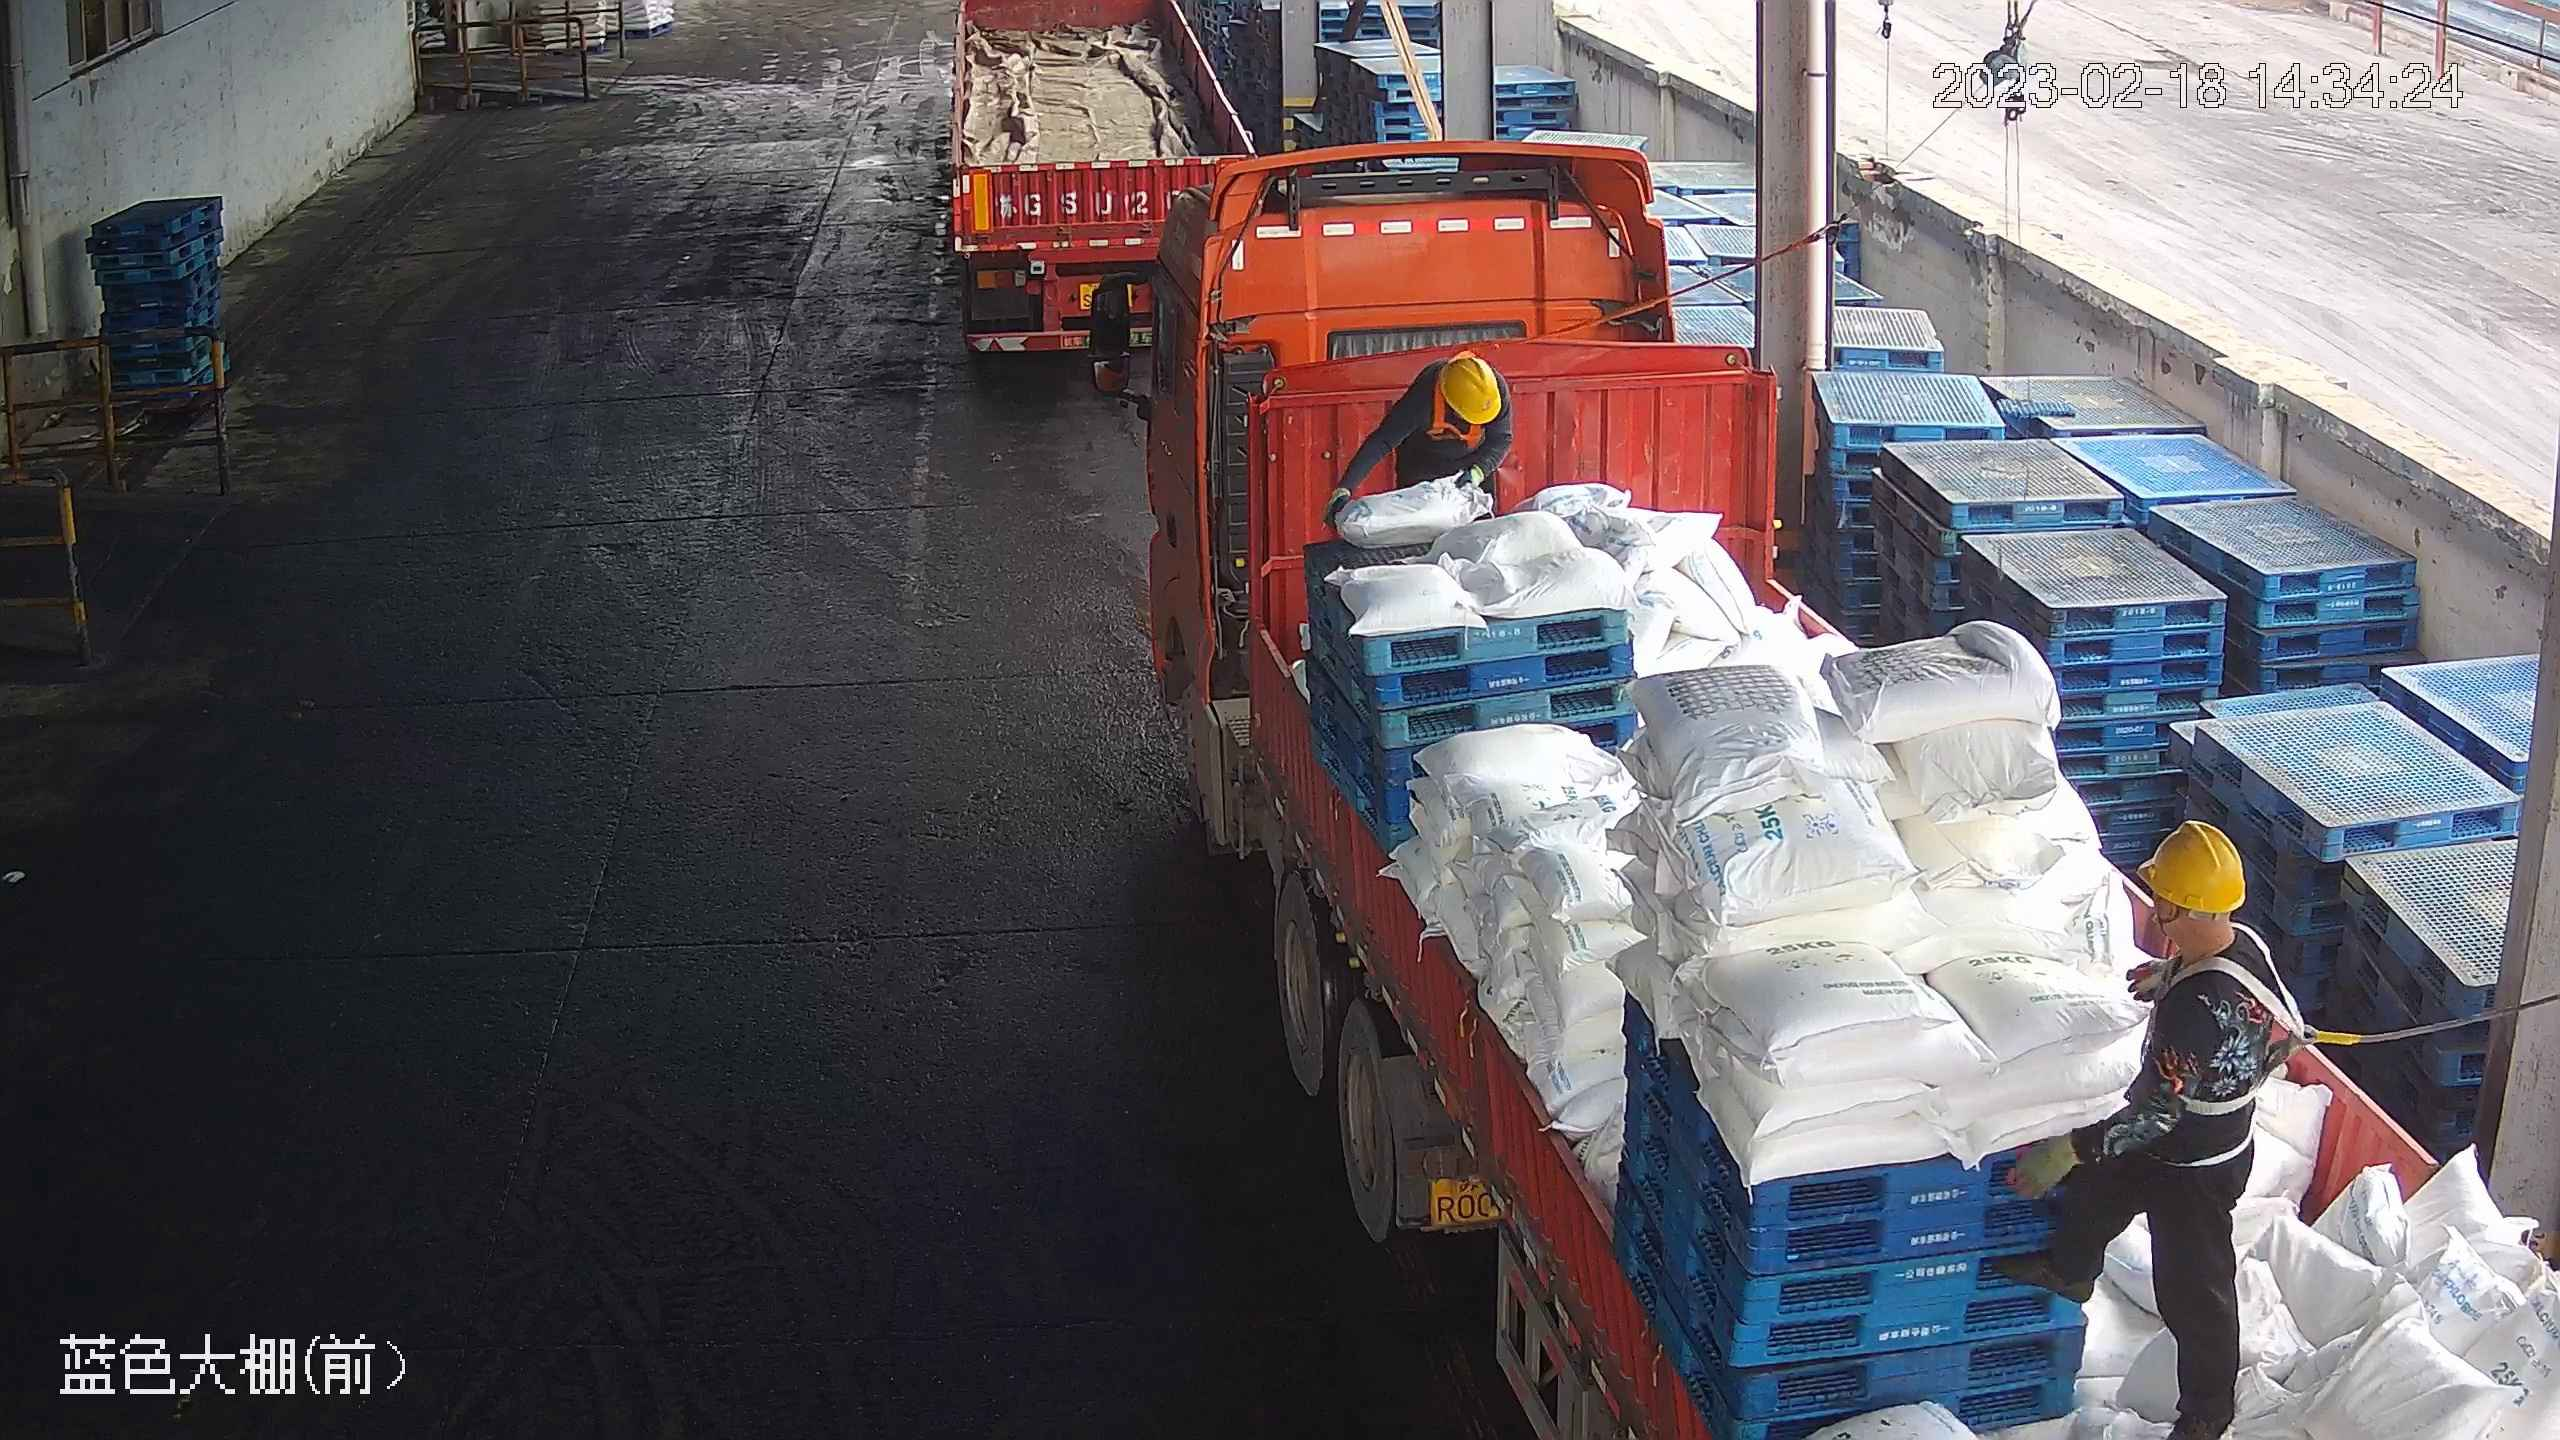belt: (2166, 939, 2354, 1117), (1423, 388, 1495, 452)
head: (2103, 820, 2291, 1050), (1398, 354, 1513, 454)
helmet: (2134, 817, 2242, 915), (1434, 357, 1501, 427)
people: (1985, 817, 2295, 1437), (1329, 352, 1520, 528)
truck: (1091, 135, 2560, 1440), (942, 1, 1264, 374)
